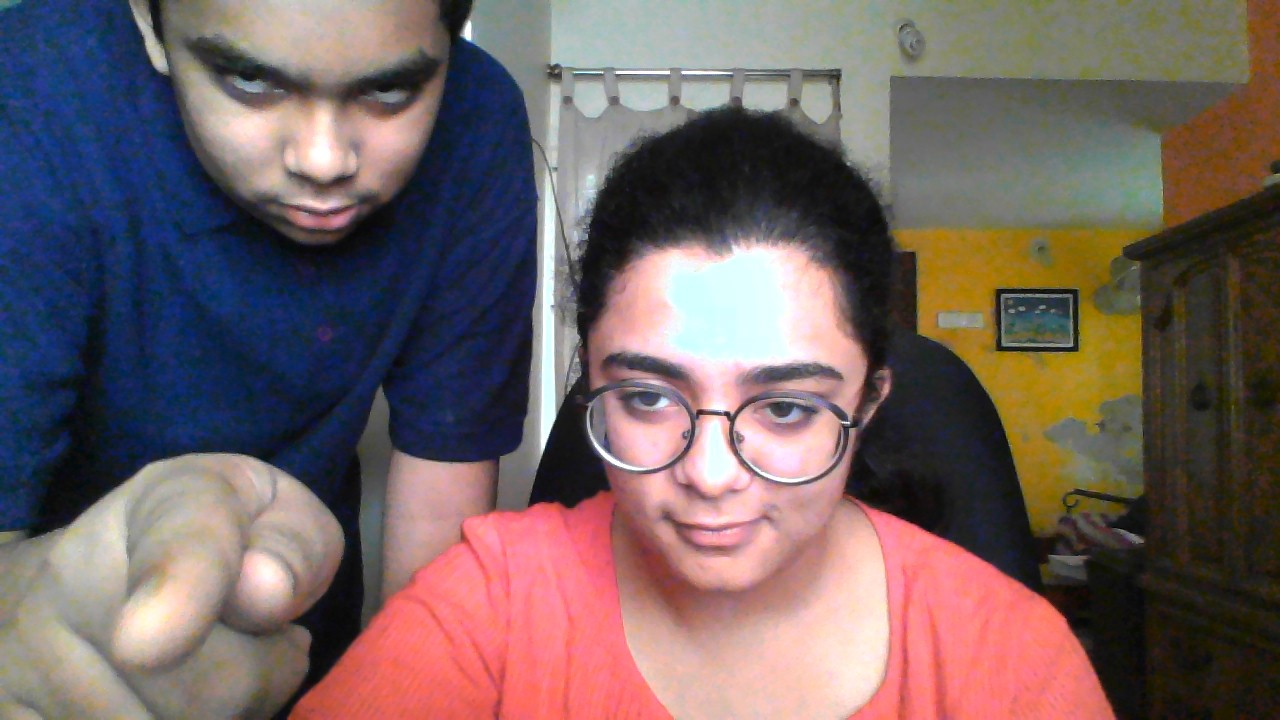person: (555, 119, 966, 644), (133, 5, 498, 297)
